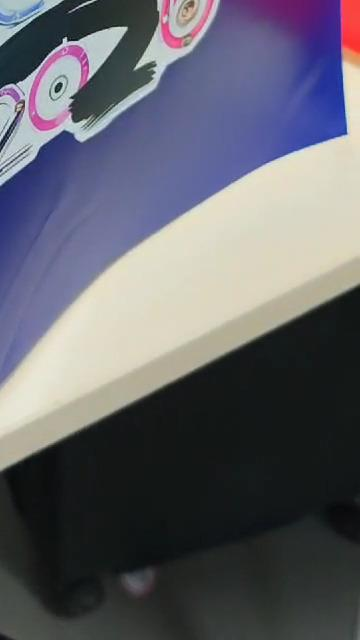B_R1: (0, 0, 350, 364)
